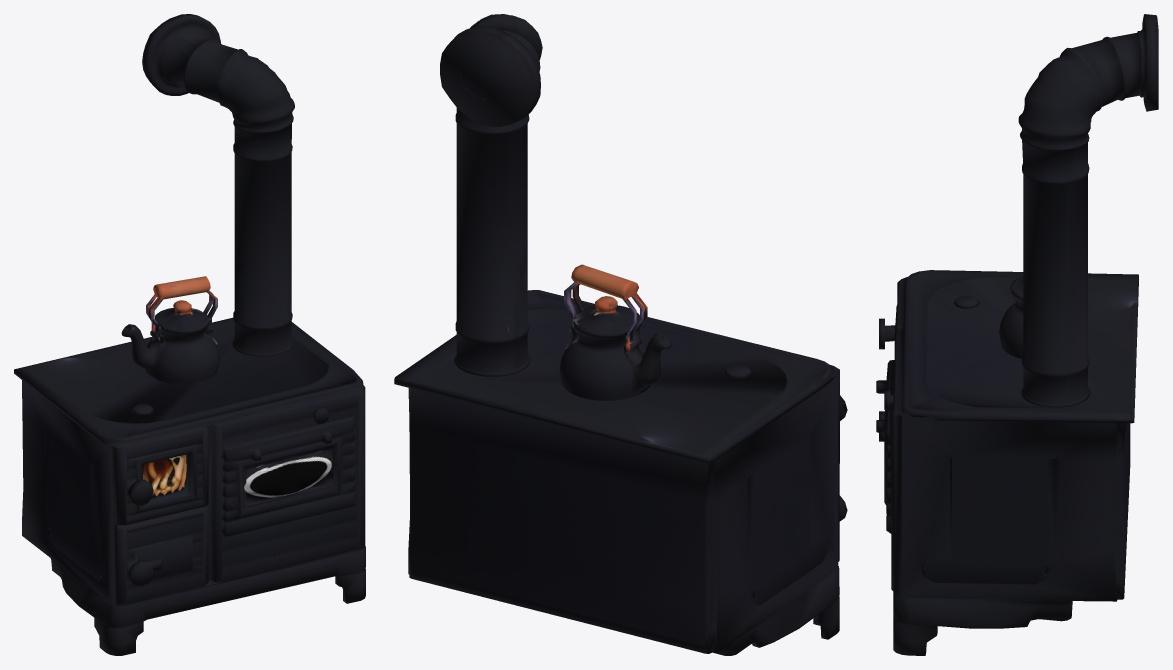
Rendered from kuzine.fbx.
3 renders of one model, left to right at view 1: azimuth 30°, elevation 25°; view 2: azimuth 150°, elevation 25°; view 3: azimuth 270°, elevation 25°, orthographic. The views are drawn at different scales.
Visible parts, largest first — view 1: texture_pbr_v128; view 2: texture_pbr_v128; view 3: texture_pbr_v128.
Part boxes in pixels (left/top/right/bottom): texture_pbr_v128: left=14, top=14, right=365, bottom=655; texture_pbr_v128: left=394, top=14, right=847, bottom=655; texture_pbr_v128: left=876, top=14, right=1158, bottom=655.
Bounding box in the file's own units: 54.25 × 102 × 43.97.
1 material, 1 textured.
